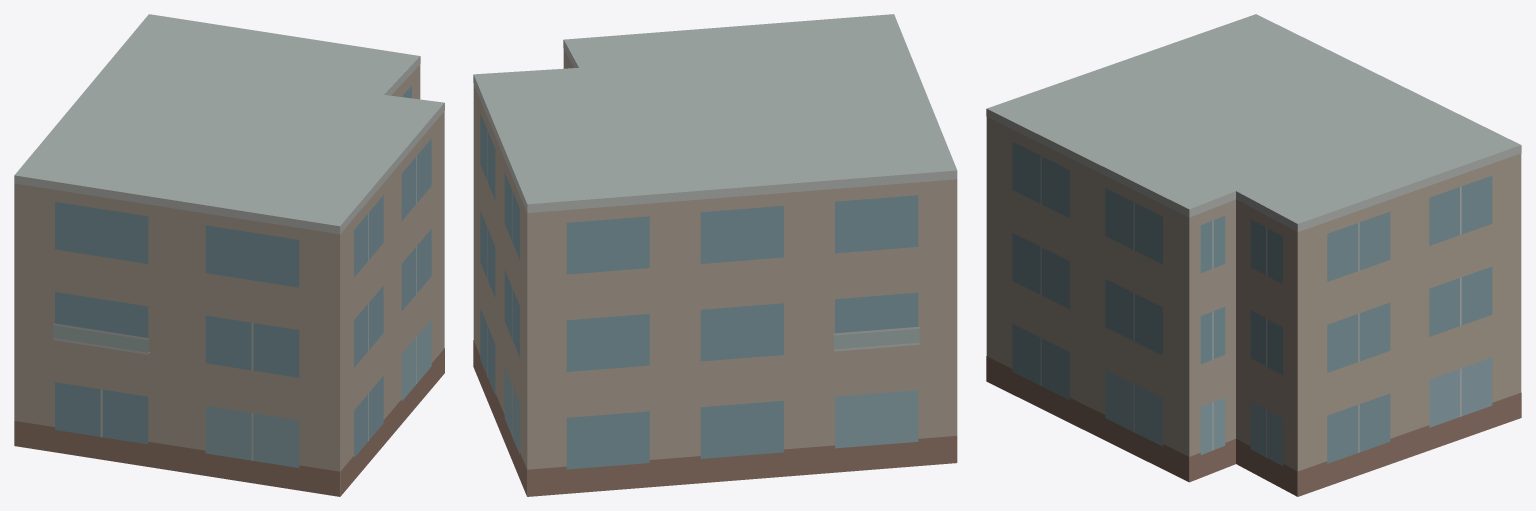
The model's file is survey-upis-33038880.glb.
The picture shows the model from 3 angles, left to right: view 1: azimuth 30°, elevation 25°; view 2: azimuth 150°, elevation 25°; view 3: azimuth 270°, elevation 25°; orthographic projection. The views are drawn at different scales.
Parts seen in each view (by area): view 1: survey-upis-33038880.tmp; view 2: survey-upis-33038880.tmp; view 3: survey-upis-33038880.tmp.
Boxes of the visible parts, x1,y1,x2,y2 form: survey-upis-33038880.tmp: [14, 14, 444, 496]; survey-upis-33038880.tmp: [473, 14, 957, 496]; survey-upis-33038880.tmp: [986, 14, 1521, 496].
Bounding box in the file's own units: 13.47 × 8.15 × 14.49.
